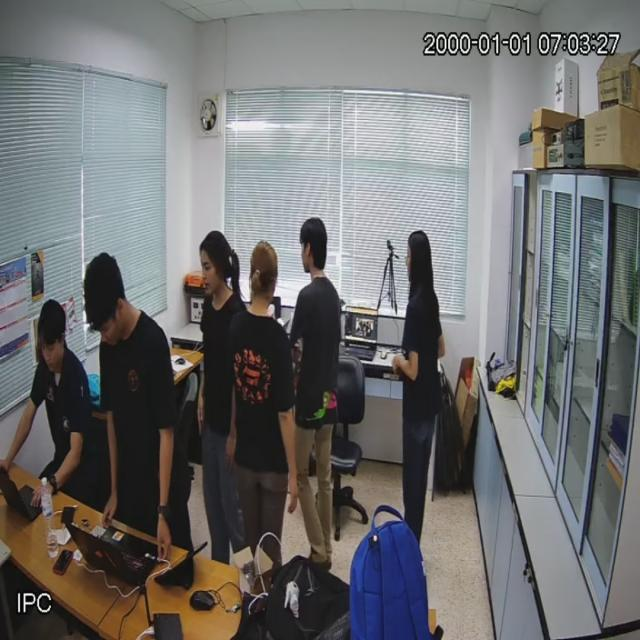normal: (88, 255, 188, 550), (0, 300, 93, 508), (236, 242, 294, 566), (199, 234, 248, 564), (295, 220, 340, 573), (398, 228, 442, 550)
